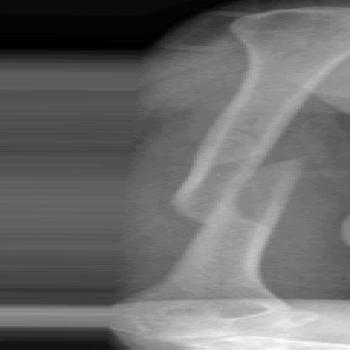Fracture: (171, 149, 326, 222)
